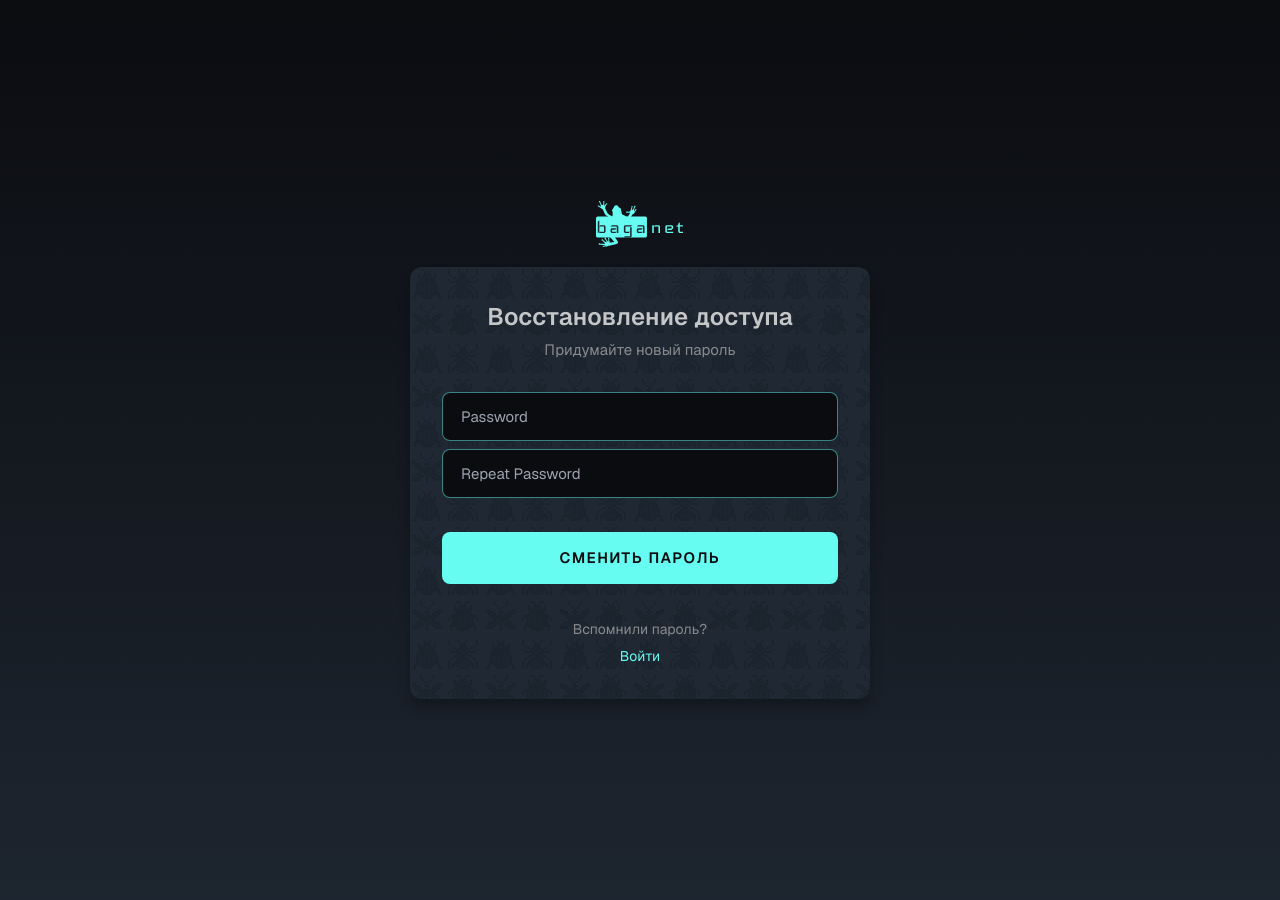
Test case: ResetPasswordPage › says the link is dead rather than failing silently
The image size is (1280, 900).
Type "longenough1" into the password field with placeholder "Password" at (640, 416), box [442, 392, 838, 440]
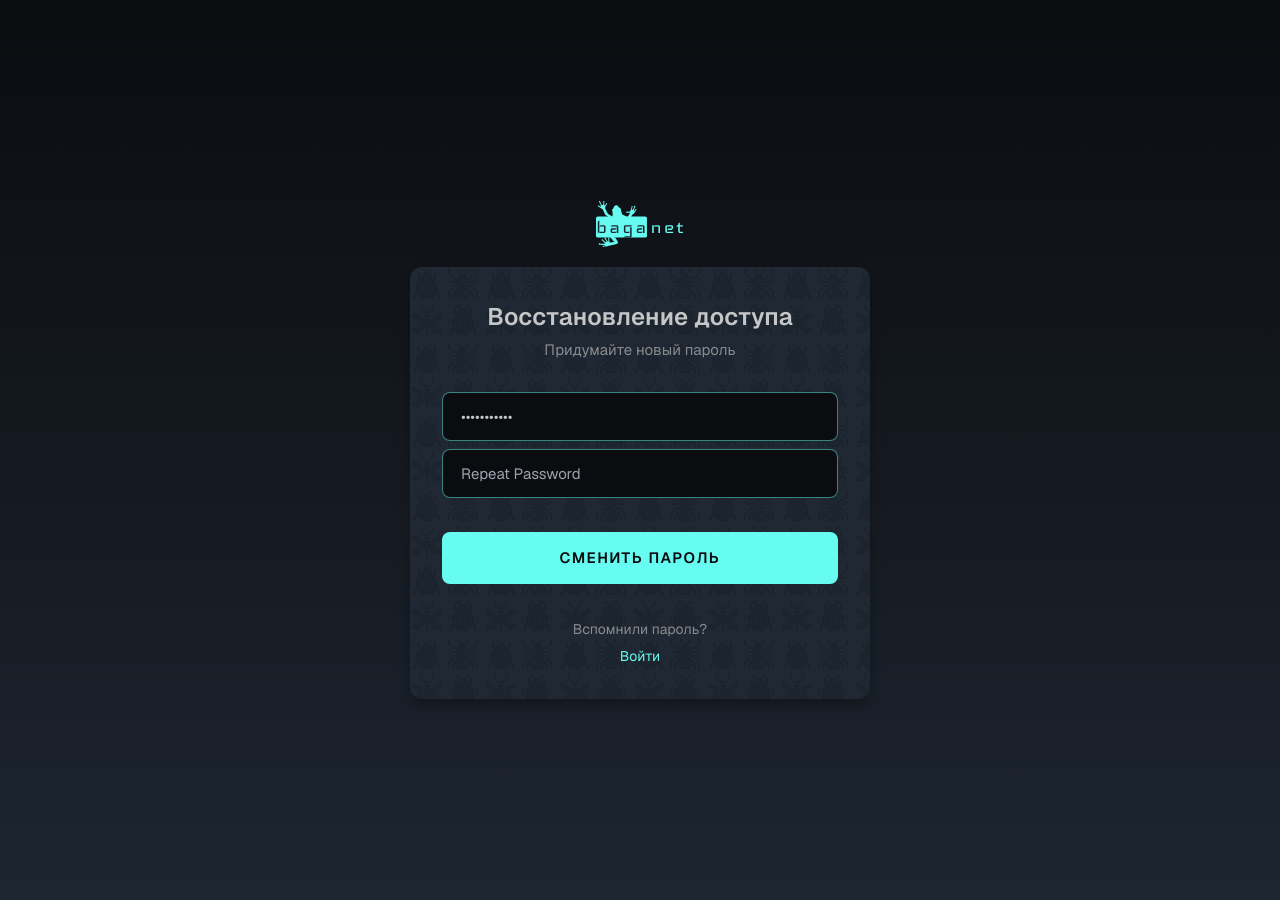
Type "longenough1" into the password field with placeholder "Repeat Password" at (640, 473), box [442, 448, 838, 498]
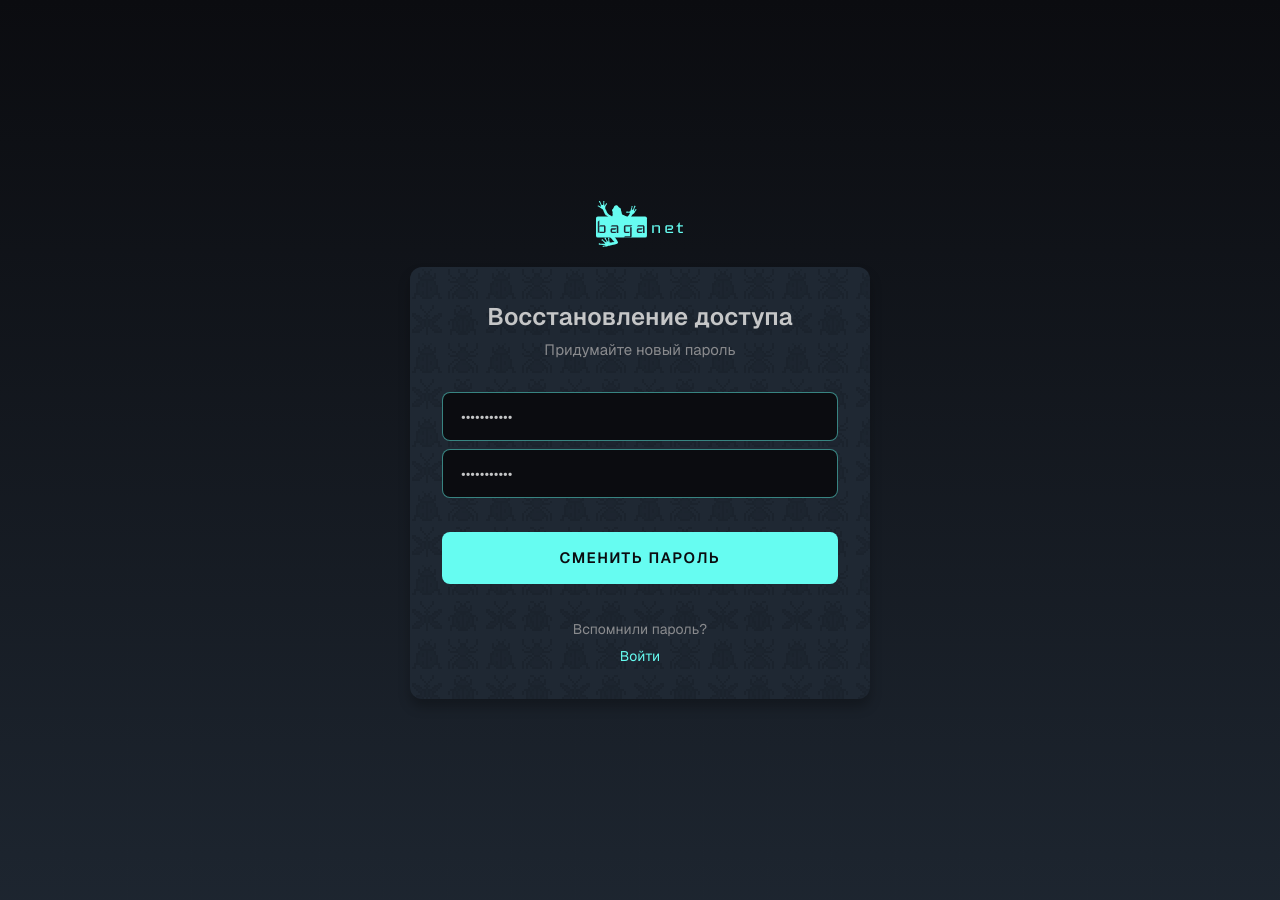
Click the button "Сменить пароль" at (640, 558), box [442, 532, 838, 584]
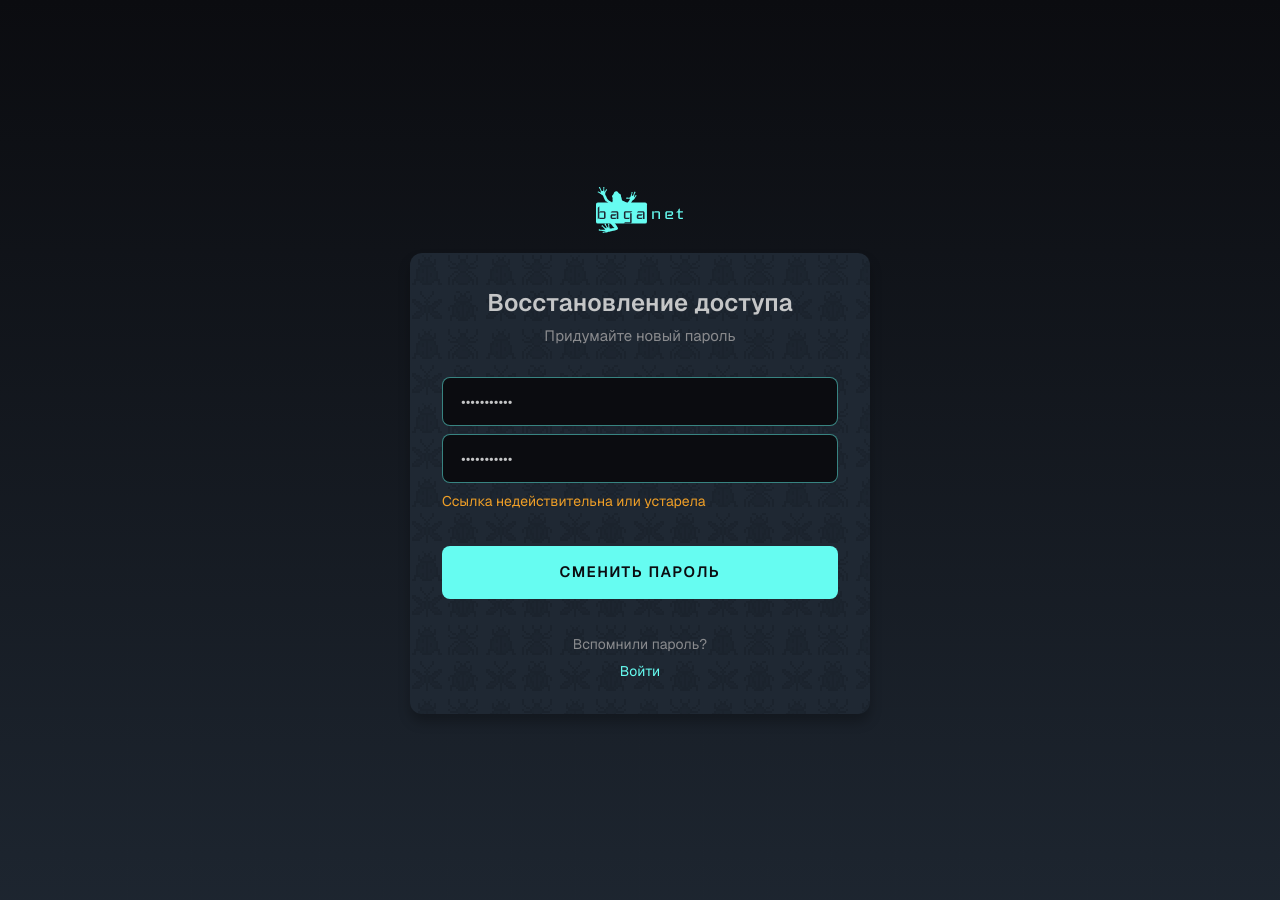
Result: the text "Ссылка недействительна или устарела" is shown at [442, 492, 706, 510]
